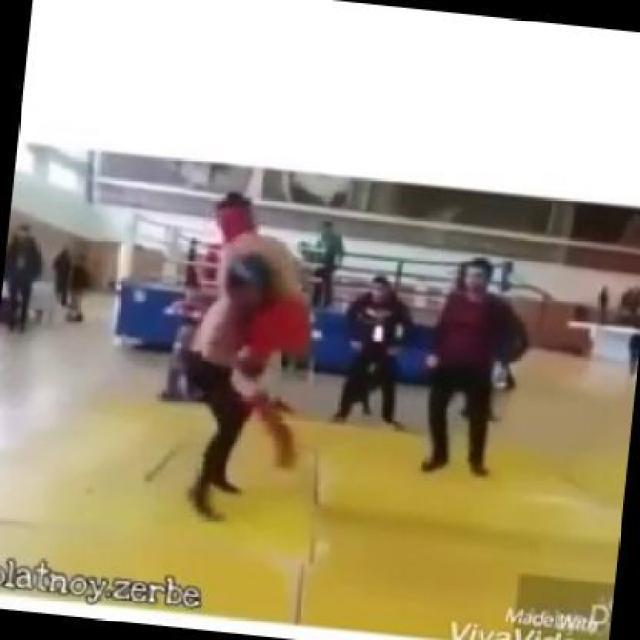fight: (176, 190, 322, 486)
